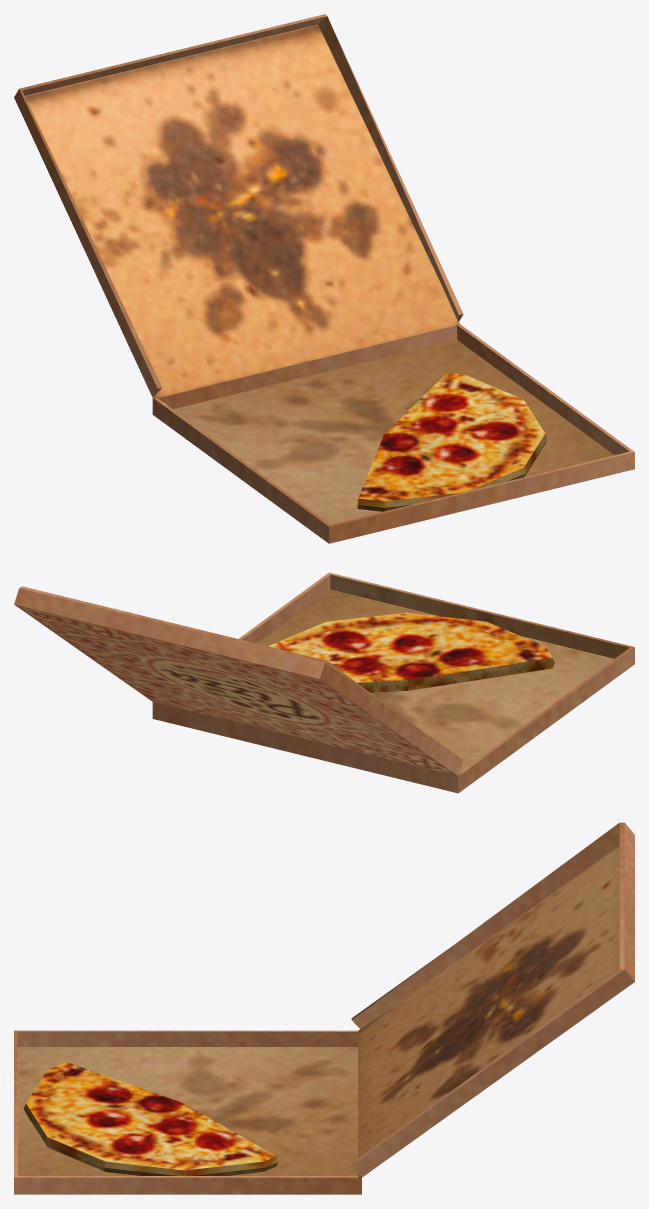
Rendered from pizza_half.obj.
The picture shows the model from 3 angles, top to bottom: view 1: azimuth 30°, elevation 25°; view 2: azimuth 150°, elevation 25°; view 3: azimuth 270°, elevation 25°; orthographic projection.
Visible parts, largest first — view 1: pizza_half; view 2: pizza_half; view 3: pizza_half.
Boxes of the visible parts, x1,y1,x2,y2 form: pizza_half: (14, 14, 634, 543); pizza_half: (14, 572, 634, 793); pizza_half: (14, 822, 634, 1194).
Bounding box in the file's own units: 0.5276 × 0.3762 × 0.9413.
